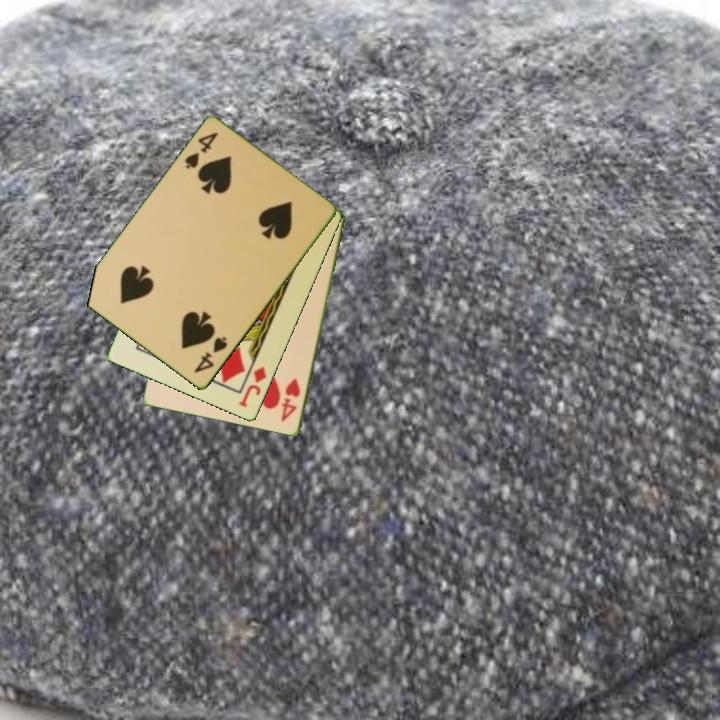4h: (278, 375, 303, 425)
4s: (190, 333, 230, 377), (181, 129, 221, 172)
Jd: (235, 363, 270, 410)
